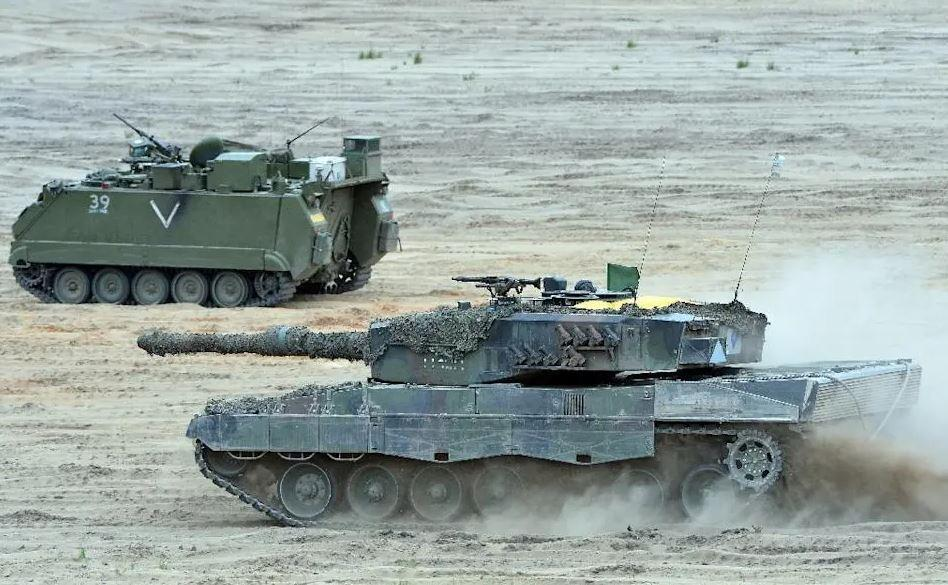tank: (137, 261, 922, 529), (9, 133, 403, 308)
